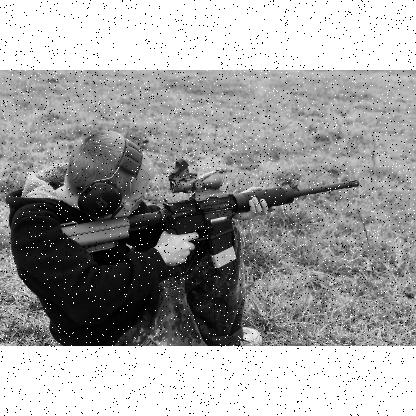gun: (60, 157, 356, 271)
